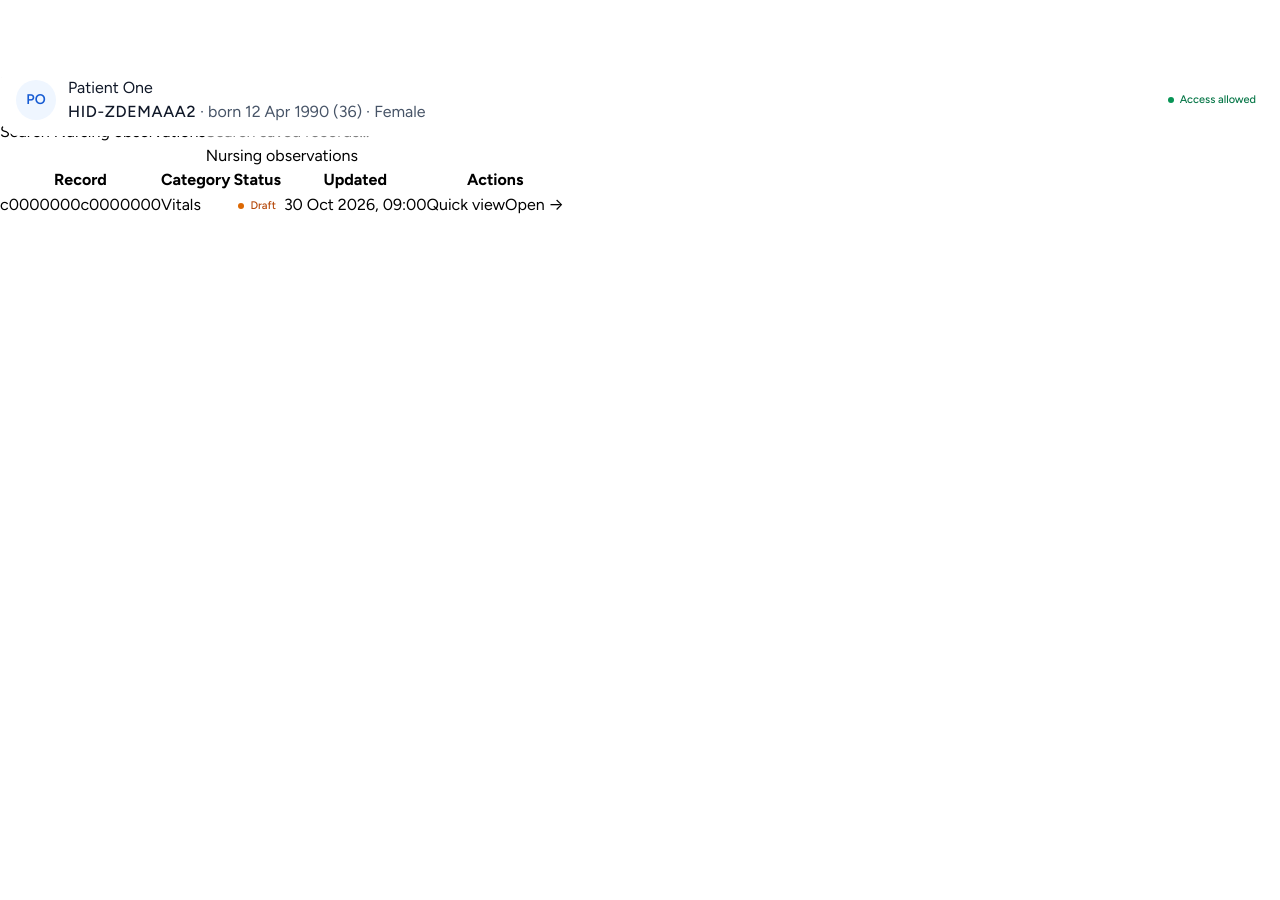
Test: Nursing observations list › opens the record quick view, and Escape closes it
Click the button with aria-label "Quick view c0000000". click: (466, 205)
box: [426,193,505,217]
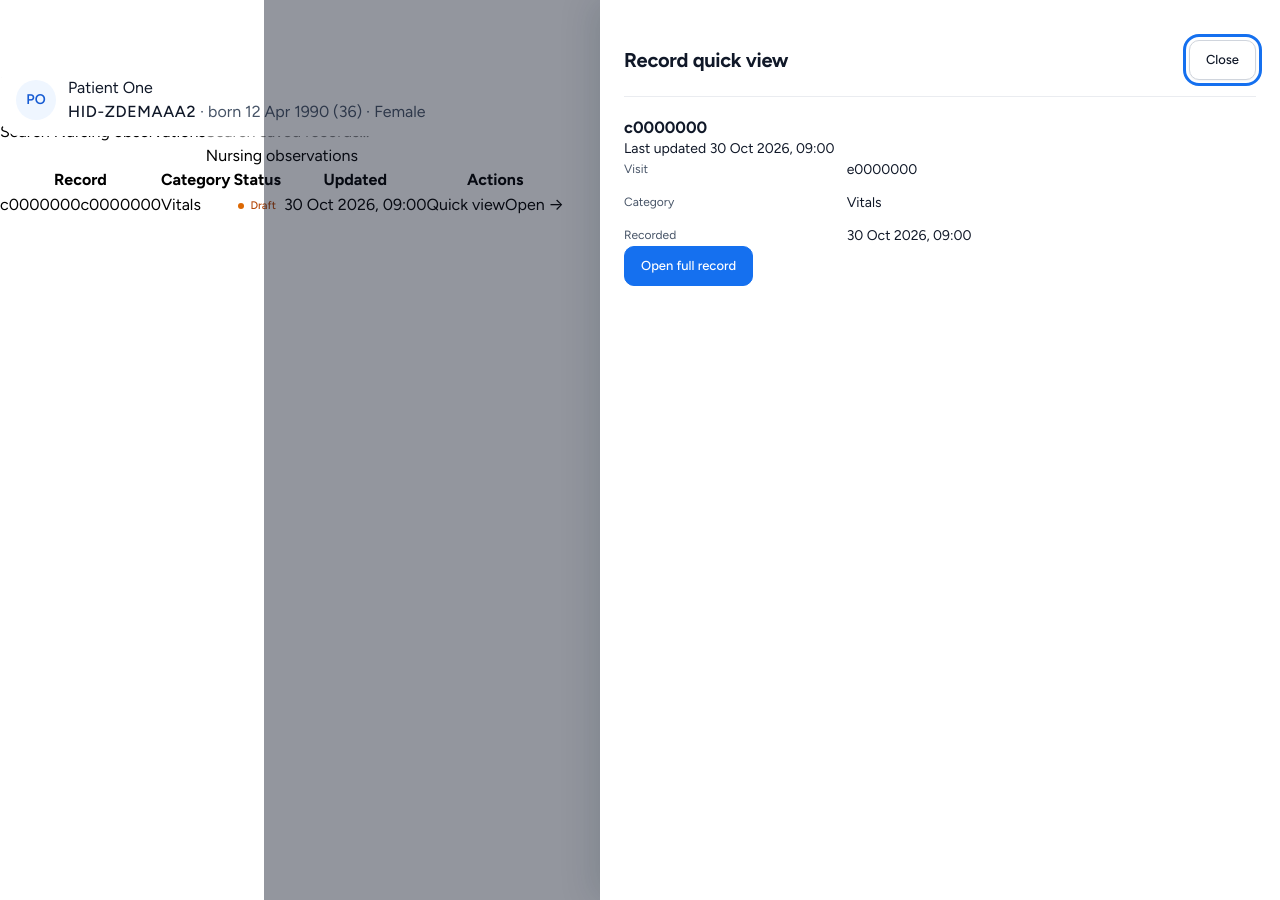
Expected: the text "Vitals" is shown, [847,194,882,211]
Expected: the text "e0000000" is shown, [847,161,917,178]
Press Escape in the dialog "Record quick view", box [600,0,1279,899]
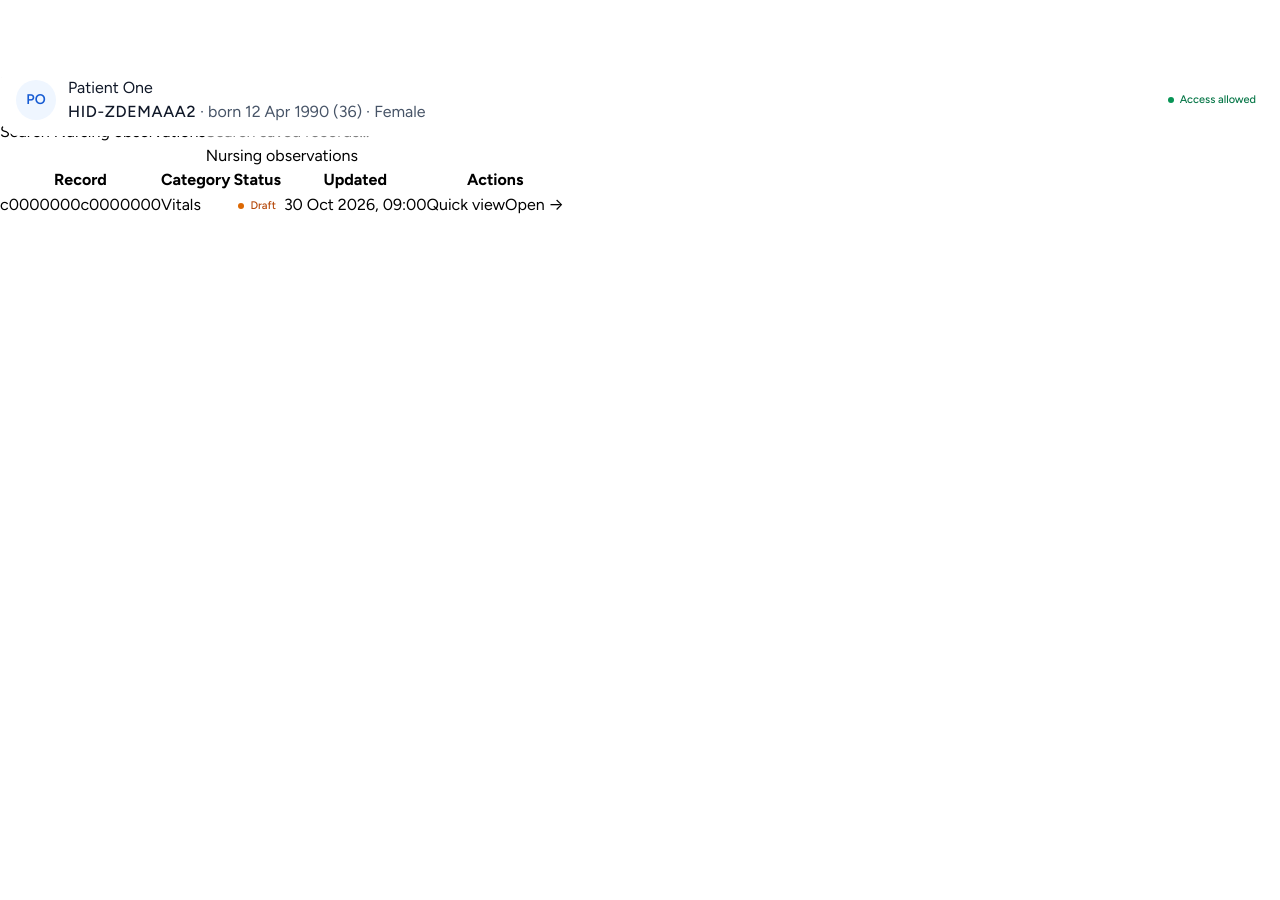
Expected: the heading "Record quick view" is gone
